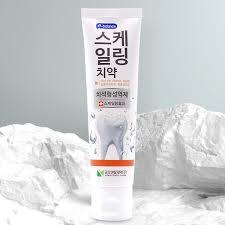toothpaste: (76, 3, 152, 220)
